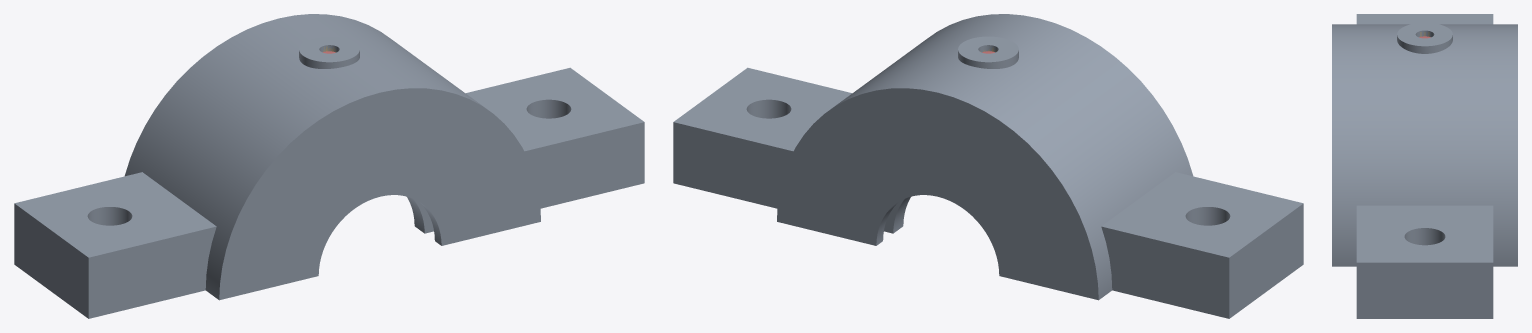
File: step_10.glb
3 views of the same model, side by side, from view 1: azimuth 30°, elevation 25°; view 2: azimuth 150°, elevation 25°; view 3: azimuth 270°, elevation 25° (orthographic). The views are drawn at different scales.
Visible parts, largest first — view 1: part__housing cap; view 2: part__housing cap; view 3: part__housing cap.
Boxes of the visible parts, bbox=[...] form: part__housing cap: bbox=[14, 14, 644, 318]; part__housing cap: bbox=[673, 14, 1303, 318]; part__housing cap: bbox=[1332, 14, 1517, 318].
Bounding box in the file's own units: 190 × 57 × 60.
